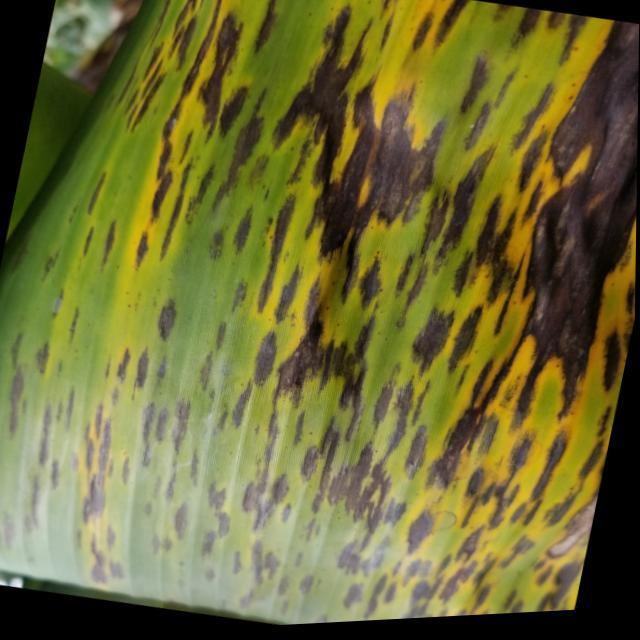Early_rust: (0, 0, 637, 630)
